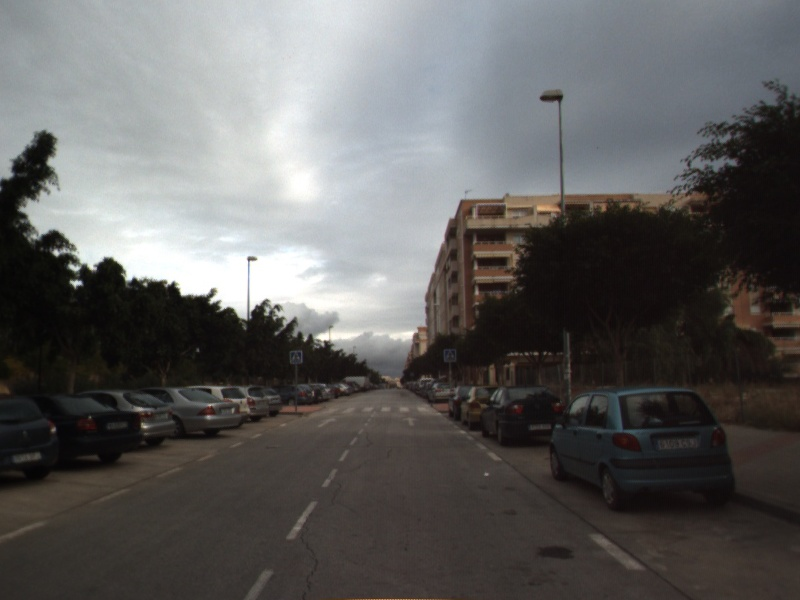STRAIGHT: (315, 415, 339, 429), (400, 415, 420, 428)
